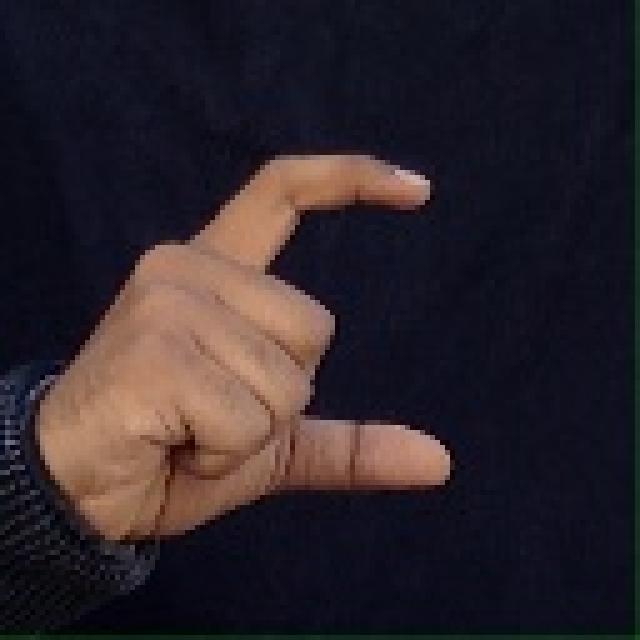Alphabet-C: (62, 151, 480, 540)
